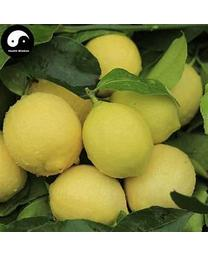lemon: (3, 93, 82, 175), (84, 105, 154, 179), (127, 143, 196, 213), (49, 164, 128, 225), (109, 86, 182, 141), (87, 34, 142, 81)
